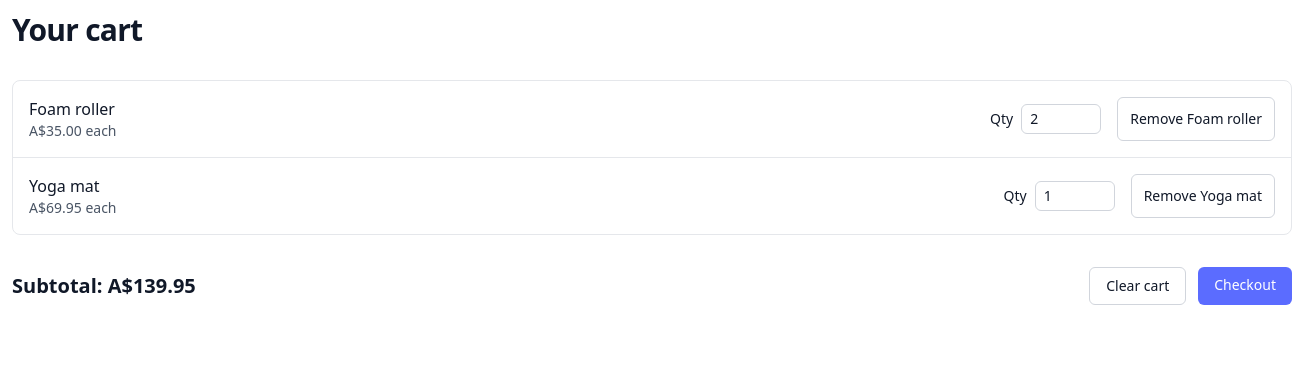
Test case: CartView › surfaces a quantity validation error when the user enters 0
This screenshot has width=1292, height=384.
Replace the text in the number field named "Quantity for Foam roller" with "0": x=1061, y=119 [1021, 104, 1101, 134]
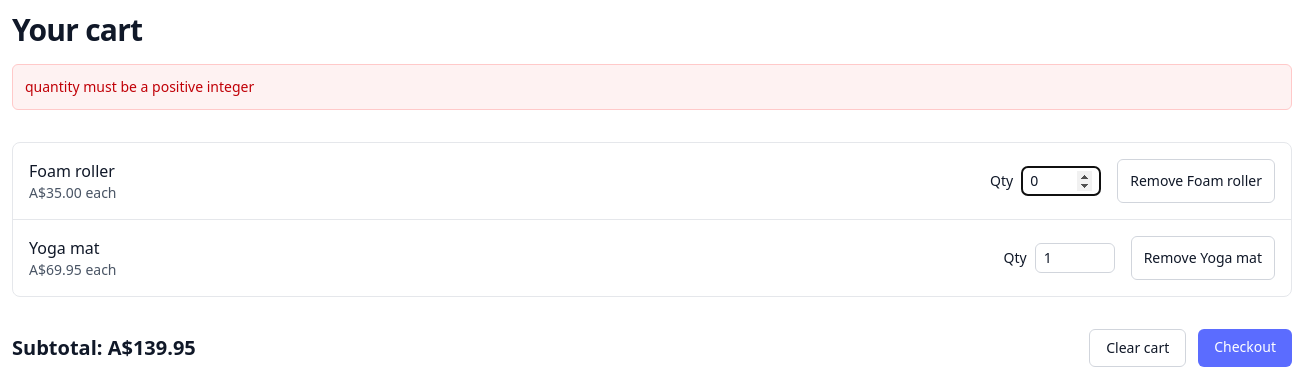
Check: the message shows "positive integer", box [25, 77, 254, 96]
